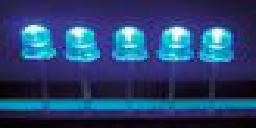LED: (158, 24, 196, 106), (199, 25, 237, 102), (17, 22, 53, 101), (64, 23, 100, 99), (106, 26, 154, 67)
